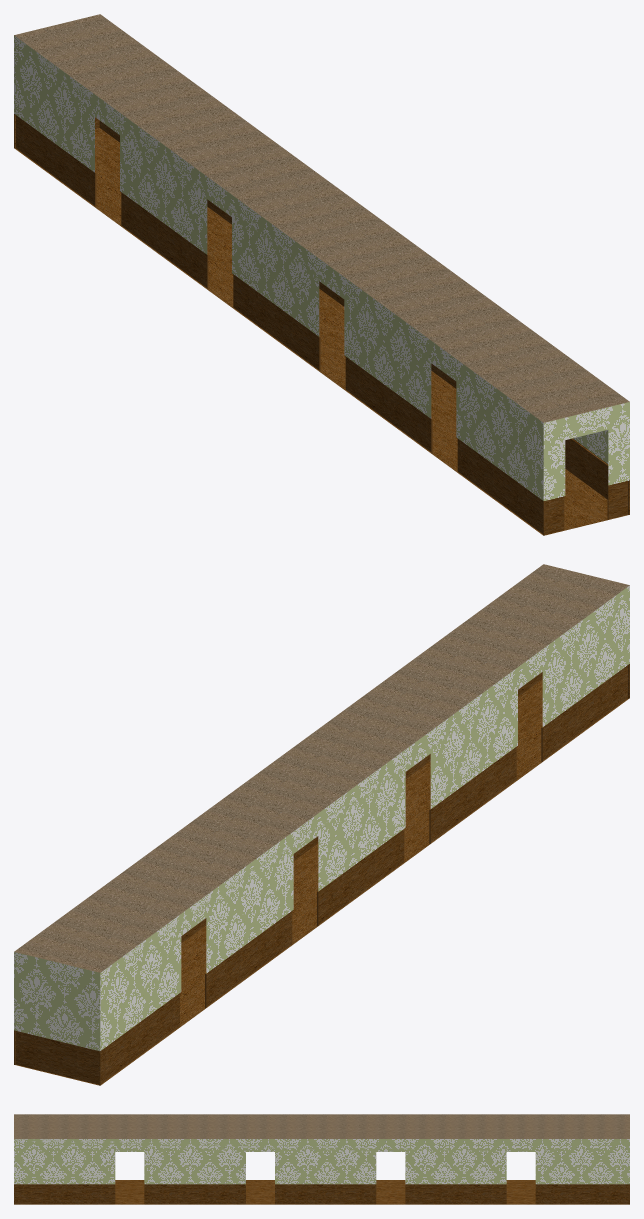
The model's file is hallway2.glb.
The picture shows the model from 3 angles, top to bottom: view 1: azimuth 30°, elevation 25°; view 2: azimuth 150°, elevation 25°; view 3: azimuth 270°, elevation 25°; orthographic projection. The views are drawn at different scales.
Parts seen in each view (by area): view 1: Hallway22; view 2: Hallway22; view 3: Hallway22.
Part boxes in pixels (x1=…): Hallway22: x1=14, y1=14, x2=629, y2=535; Hallway22: x1=14, y1=564, x2=629, y2=1085; Hallway22: x1=14, y1=1114, x2=629, y2=1204.
Bounding box in the file's own units: 2 × 2.5 × 21.25.
Materials: 3 (3 with a texture image).
